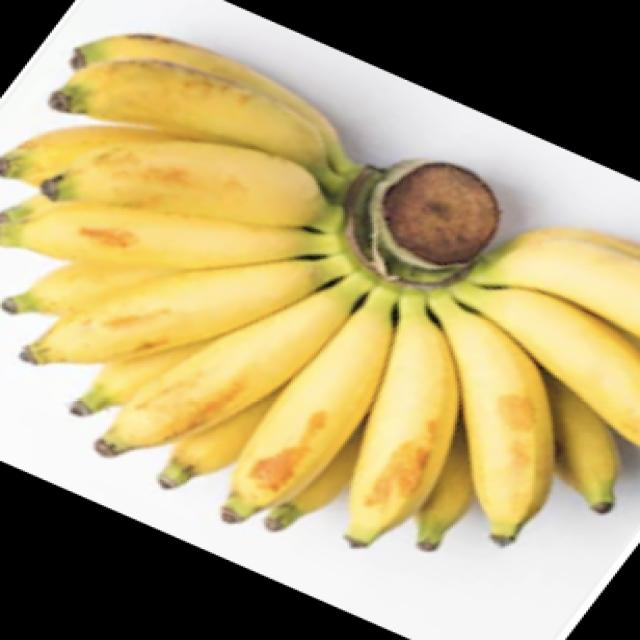god quality banana: (2, 35, 640, 547)
